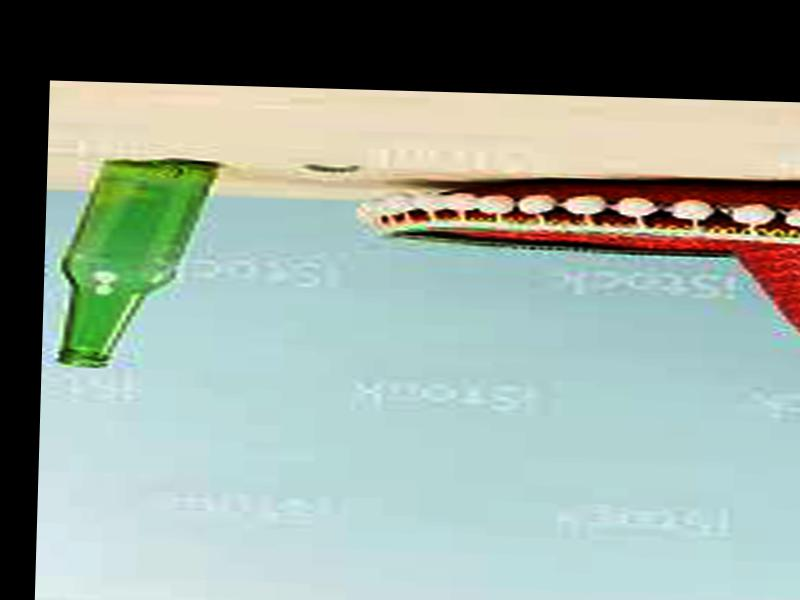Beer: (62, 152, 222, 372)
